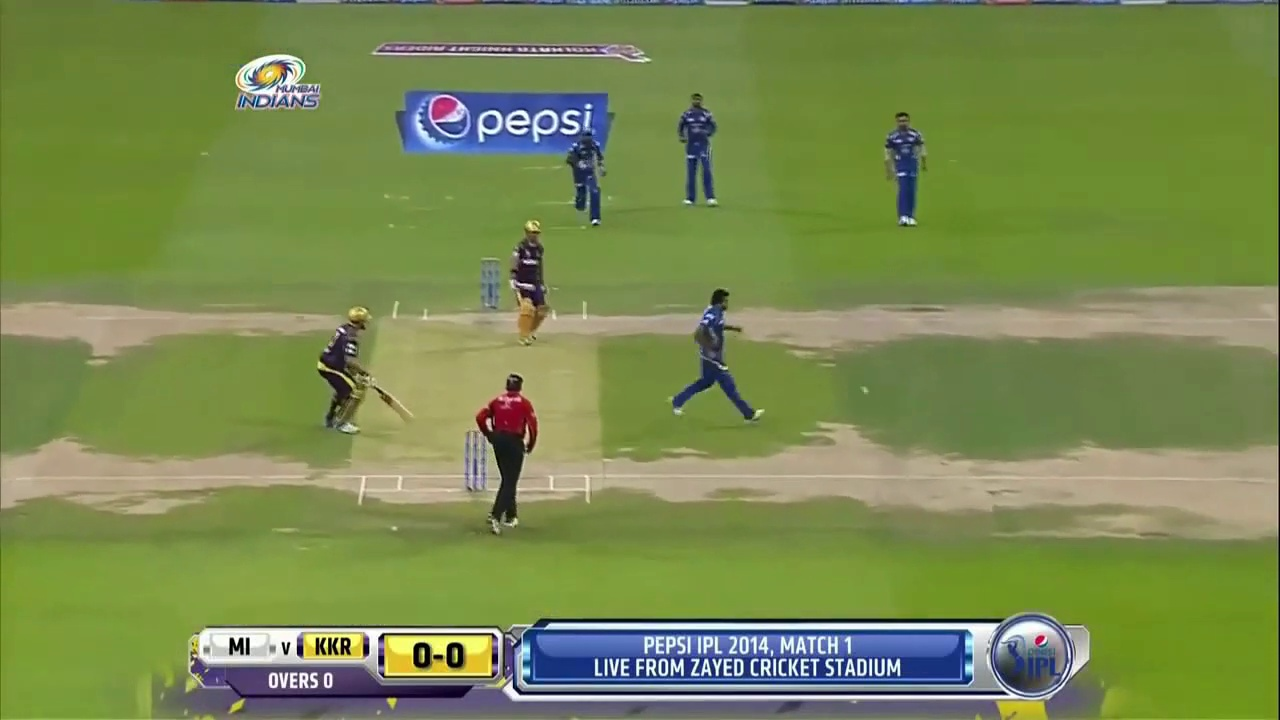bat: (373, 386, 412, 421)
